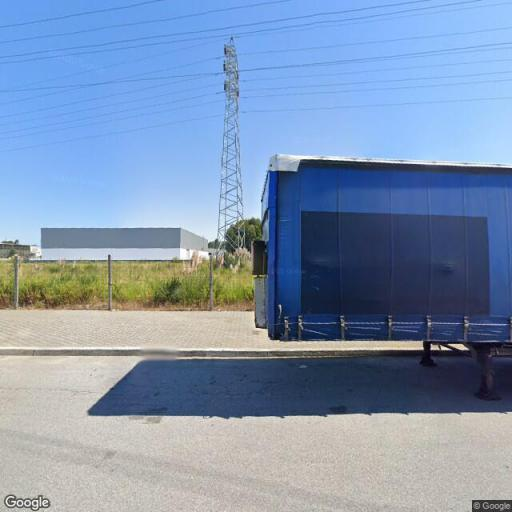ss_3: (216, 33, 246, 267)
